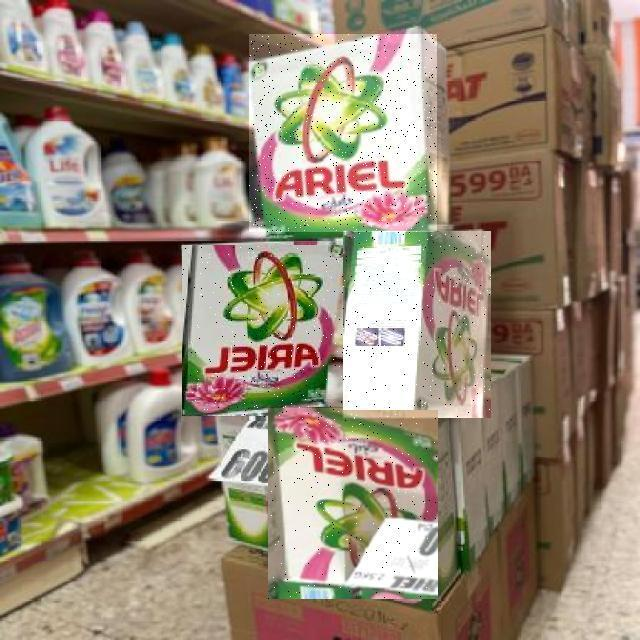Detergent: (249, 34, 437, 232), (268, 410, 438, 599), (182, 246, 347, 420), (343, 231, 491, 418)
